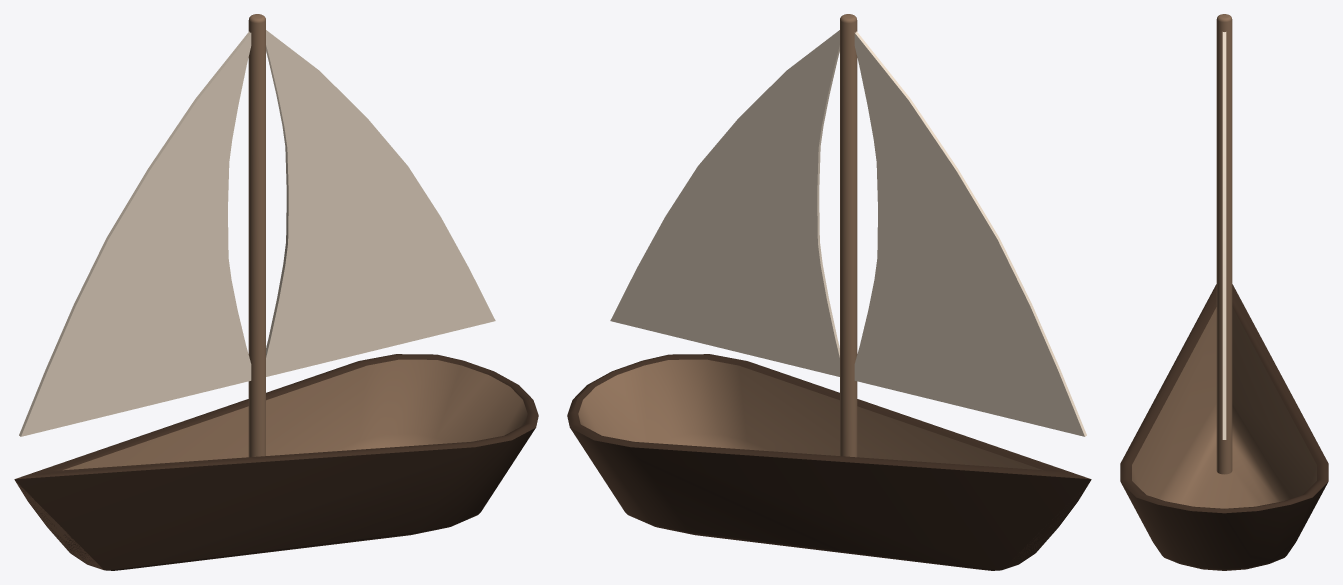
The model's file is Ship.fbx.
3 renders of one model, left to right at view 1: azimuth 30°, elevation 25°; view 2: azimuth 150°, elevation 25°; view 3: azimuth 270°, elevation 25°, orthographic. The views are drawn at different scales.
Parts seen in each view (by area): view 1: Ship; view 2: Ship; view 3: Ship.
Part boxes in pixels (box(x1,y1,x2,y2)): Ship: box(14, 14, 538, 570); Ship: box(567, 14, 1091, 570); Ship: box(1120, 14, 1328, 570).
Size of the model in its own units: 300 by 297 by 121.
